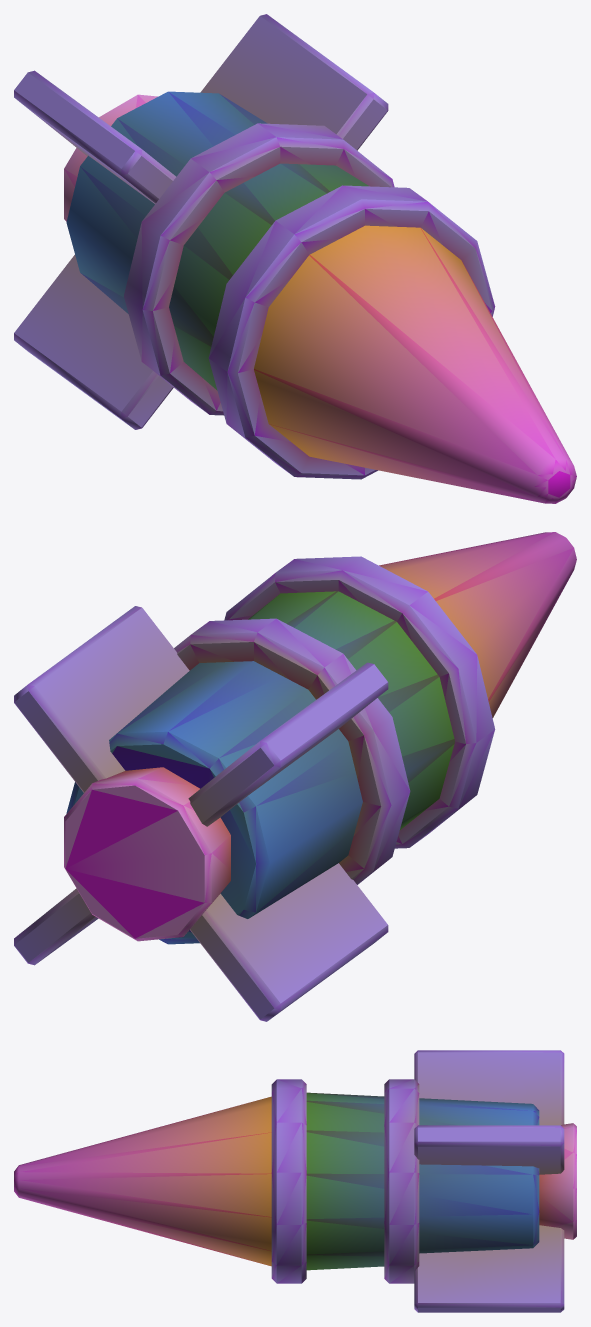
Rendered from SM_Projectile.fbx.
3 renders of one model, top to bottom at view 1: azimuth 30°, elevation 25°; view 2: azimuth 150°, elevation 25°; view 3: azimuth 270°, elevation 25°, orthographic. The views are drawn at different scales.
Visible parts, largest first — view 1: SM_Projectile; view 2: SM_Projectile; view 3: SM_Projectile.
Boxes of the visible parts, bbox=[...] form: SM_Projectile: bbox=[14, 14, 576, 503]; SM_Projectile: bbox=[14, 532, 576, 1021]; SM_Projectile: bbox=[14, 1050, 576, 1312].
Size of the model in its own units: 0.164 by 0.164 by 0.45.
